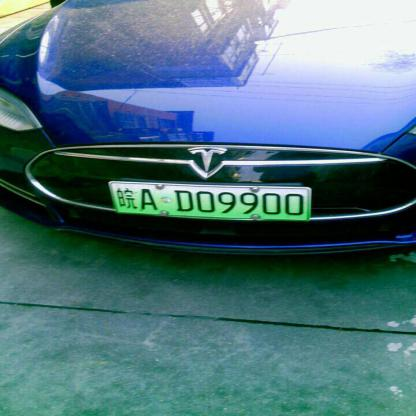lp: (108, 181, 310, 220)
